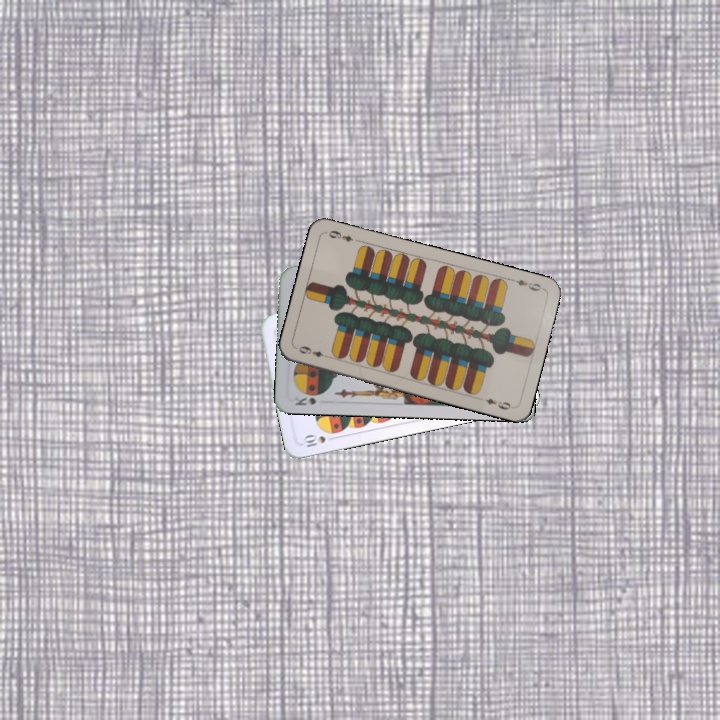E9: (506, 274, 546, 294), (295, 342, 326, 360)
S10: (299, 431, 339, 450)
SK: (291, 393, 319, 408)
